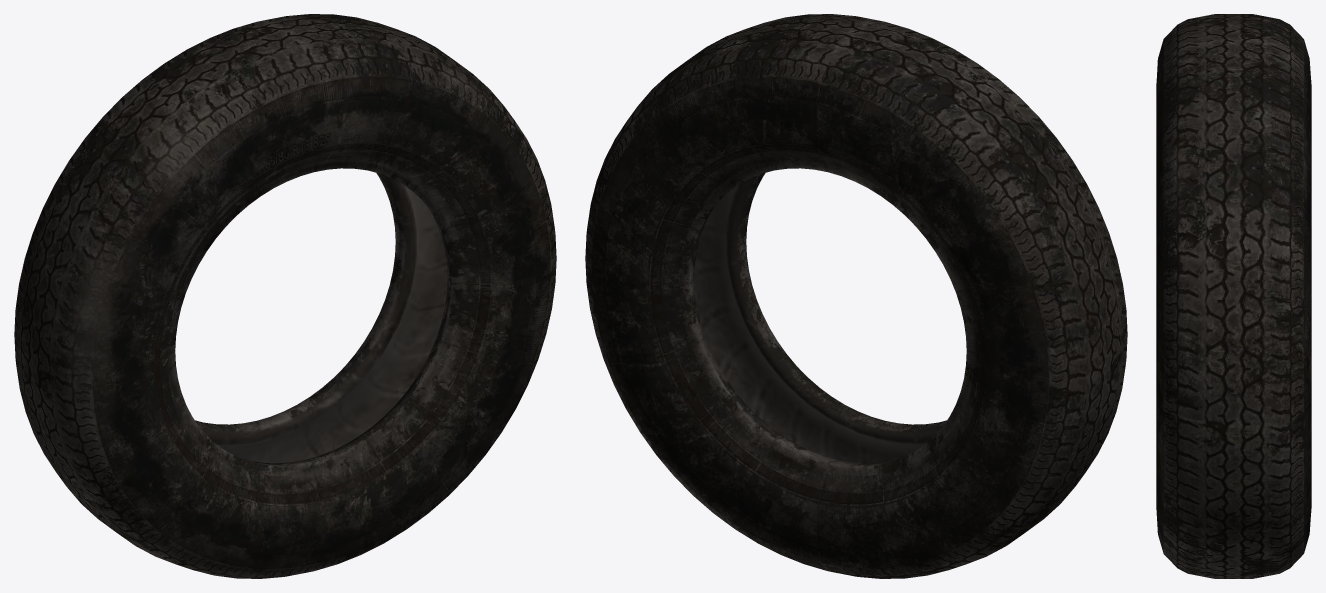
File: old_tyre.glb
3 renders of one model, left to right at view 1: azimuth 30°, elevation 25°; view 2: azimuth 150°, elevation 25°; view 3: azimuth 270°, elevation 25°, orthographic. The views are drawn at different scales.
Visible parts, largest first — view 1: old_tyre; view 2: old_tyre; view 3: old_tyre.
Part boxes in pixels (bbox=[...]): old_tyre: bbox=[14, 14, 556, 578]; old_tyre: bbox=[585, 14, 1127, 578]; old_tyre: bbox=[1156, 14, 1311, 578].
Size of the model in its own units: 0.6 by 0.6 by 0.165.
Materials: 1 (1 with a texture image).
